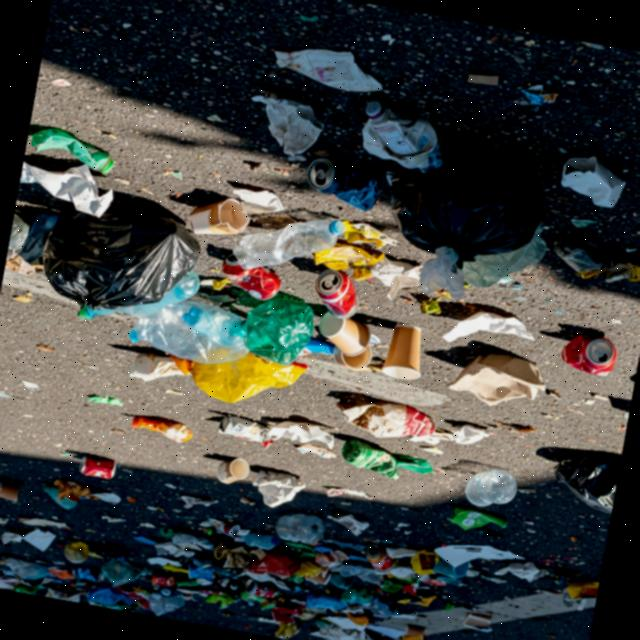aluminum: (304, 156, 384, 214), (212, 256, 290, 312), (308, 266, 366, 324), (558, 329, 622, 380), (74, 451, 119, 484)
paper: (268, 34, 392, 100), (442, 346, 552, 416), (440, 299, 542, 361), (23, 157, 119, 220), (246, 87, 326, 160), (555, 145, 631, 214), (183, 190, 254, 246), (378, 316, 434, 386), (364, 250, 432, 304), (248, 464, 308, 516), (266, 410, 340, 450), (212, 451, 254, 492), (496, 554, 552, 584)
plastic: (226, 196, 348, 286), (125, 293, 250, 363), (352, 98, 452, 172), (24, 120, 120, 176), (337, 436, 408, 484), (460, 464, 522, 514), (125, 408, 198, 447), (271, 504, 329, 550)
